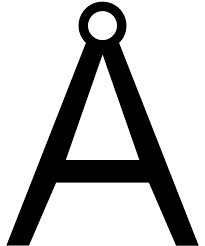tamgiac: (60, 37, 144, 174)
